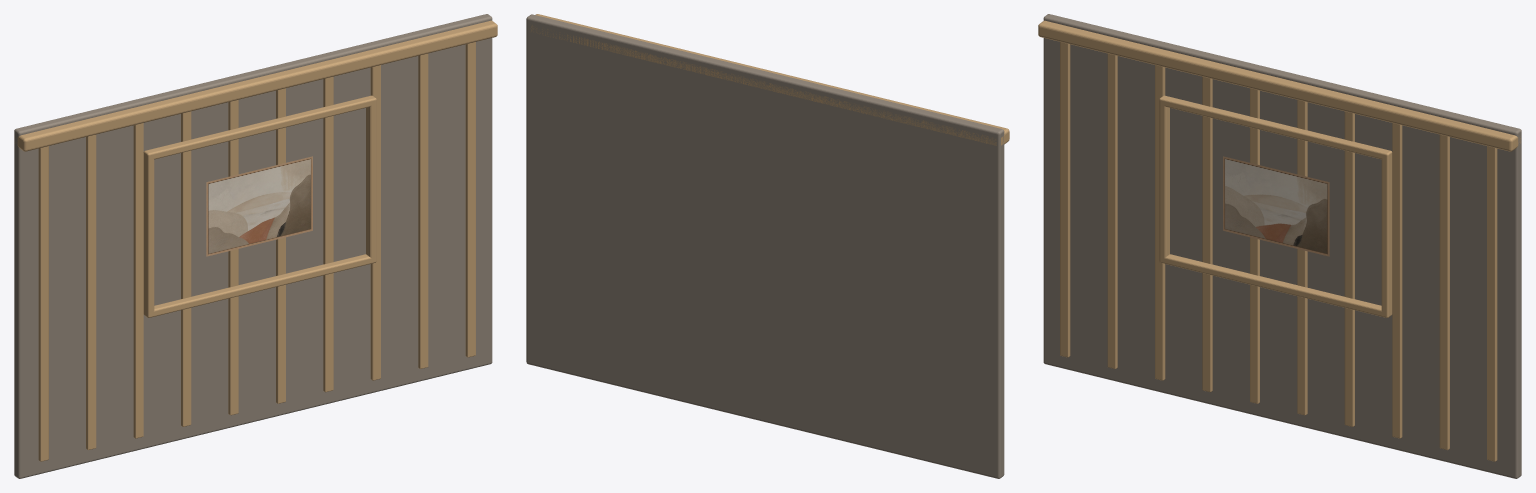
Rendered from feature-wall.glb.
The picture shows the model from 3 angles, left to right: view 1: azimuth 30°, elevation 25°; view 2: azimuth 150°, elevation 25°; view 3: azimuth 330°, elevation 25°; orthographic projection.
Visible parts, largest first — view 1: CANONICAL backing, ACCENT oak feature ledge, CANONICAL AI wall artwork, ACCENT oak reveal 2, ACCENT oak reveal 3, ACCENT oak reveal 10, ACCENT oak reveal 1, ACCENT oak reveal 9, ACCENT oak reveal 4, ACCENT oak reveal 7, ACCENT artwork frame top, ACCENT artwork frame bottom (+5 smaller); view 2: CANONICAL backing, ACCENT oak feature ledge; view 3: CANONICAL backing, ACCENT oak feature ledge, CANONICAL AI wall artwork, ACCENT oak reveal 1, ACCENT oak reveal 8, ACCENT oak reveal 9, ACCENT oak reveal 2, ACCENT oak reveal 10, ACCENT oak reveal 7, ACCENT oak reveal 4, ACCENT artwork frame top, ACCENT artwork frame bottom (+5 smaller).
Boxes of the visible parts, x1,y1,x2,y2 form: CANONICAL backing: (14,14,492,478); ACCENT oak feature ledge: (14,20,497,151); CANONICAL AI wall artwork: (206,156,312,256); ACCENT oak reveal 2: (86,134,96,450); ACCENT oak reveal 3: (133,123,143,438); ACCENT oak reveal 10: (465,42,475,357); ACCENT oak reveal 1: (38,146,48,461); ACCENT oak reveal 9: (418,53,428,368); ACCENT oak reveal 4: (181,111,191,426); ACCENT oak reveal 7: (323,76,333,392); ACCENT artwork frame top: (143,96,376,159); ACCENT artwork frame bottom: (143,254,376,317); CANONICAL backing: (526,14,1004,478); ACCENT oak feature ledge: (530,14,1009,145); CANONICAL backing: (1043,14,1521,478); ACCENT oak feature ledge: (1038,20,1520,151); CANONICAL AI wall artwork: (1223,156,1329,256); ACCENT oak reveal 1: (1060,42,1070,357); ACCENT oak reveal 8: (1392,123,1402,438); ACCENT oak reveal 9: (1439,134,1449,450); ACCENT oak reveal 2: (1107,53,1117,368); ACCENT oak reveal 10: (1487,146,1497,461); ACCENT oak reveal 7: (1344,111,1354,426); ACCENT oak reveal 4: (1202,76,1212,392); ACCENT artwork frame top: (1159,96,1392,159); ACCENT artwork frame bottom: (1159,254,1392,317).
Bounding box in the file's own units: 3 × 2.1 × 0.1325.
3 materials, 1 textured.
